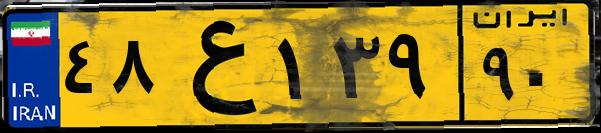0: (525, 38, 570, 115)
1: (270, 28, 330, 110)
3: (330, 28, 385, 110)
4: (57, 26, 110, 100)
8: (110, 28, 158, 98)
9: (385, 28, 445, 110), (475, 38, 525, 113)
ع: (158, 12, 270, 120)
